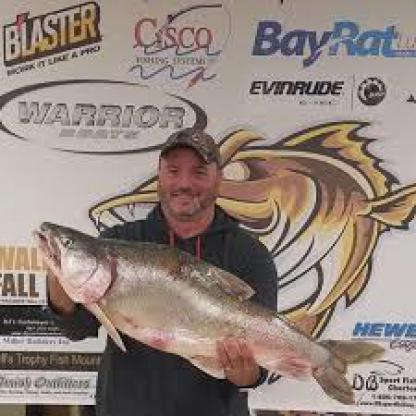fish: (27, 218, 374, 403)
